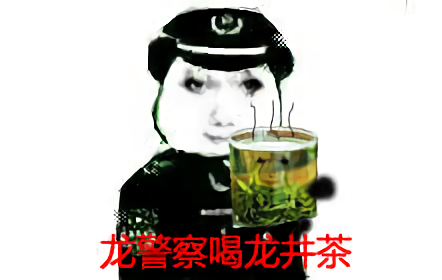dragon: (181, 69, 268, 144)
